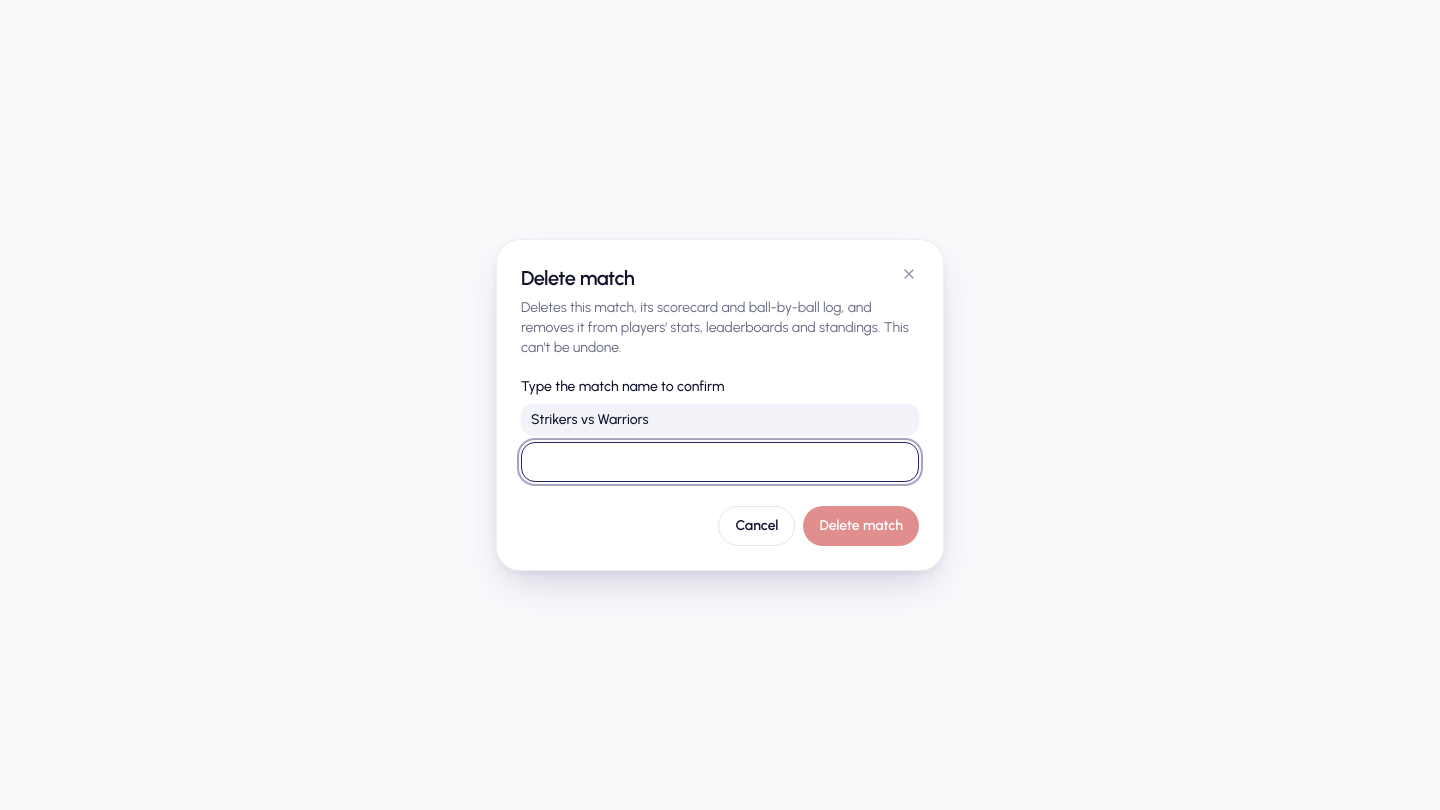
Test: DeleteMatchDialog › keeps the delete button disabled until the name matches
Expected: the button "Delete match" is disabled, x1=803 y1=506 x2=919 y2=546
Type "Strikers" into the field labelled "Type the match name to confirm" at {"x": 720, "y": 462}, box x1=521 y1=442 x2=919 y2=482
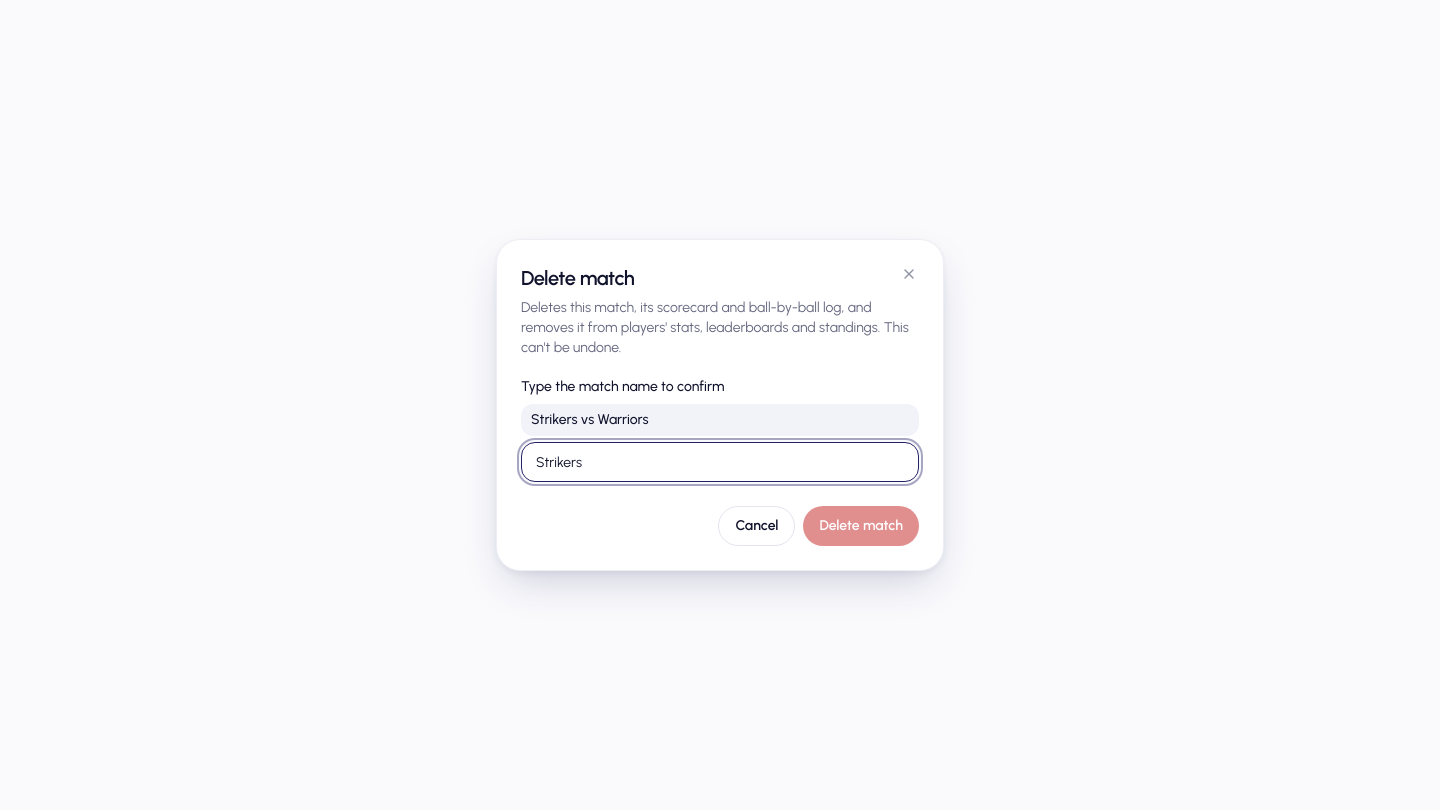
Expected: the button "Delete match" is disabled, x1=803 y1=506 x2=919 y2=546
Replace the text in the field labelled "Type the match name to confirm" with " strikers VS warriors " at {"x": 720, "y": 462}, box x1=521 y1=442 x2=919 y2=482
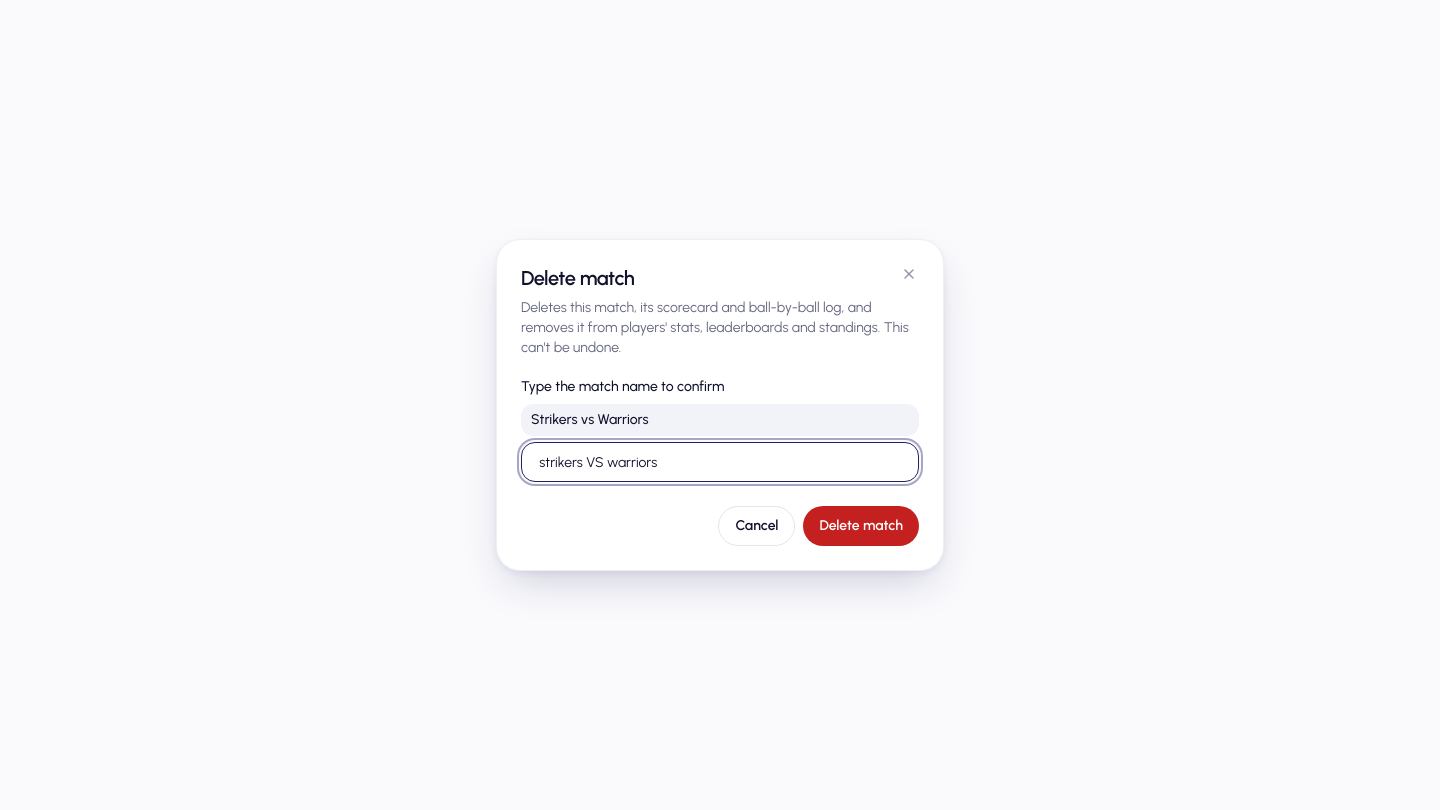
Expected: the button "Delete match" is enabled, x1=803 y1=506 x2=919 y2=546
